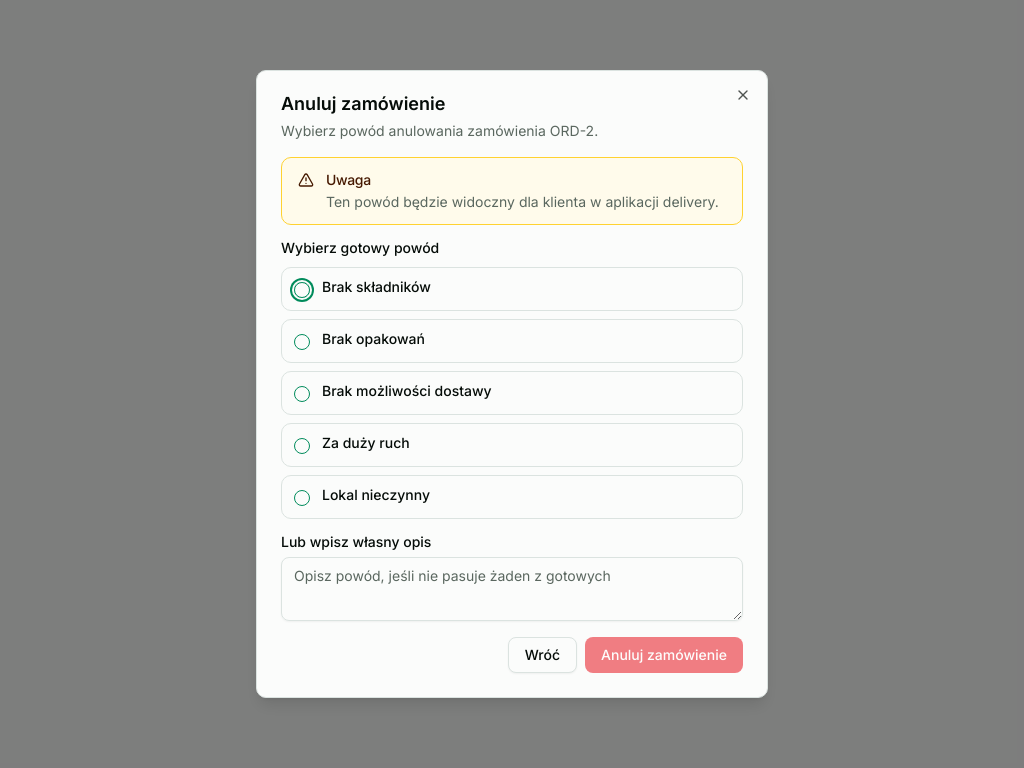
it: OrderCancelDialog › enables confirm when only custom reason is entered and shows customer warning
Step 1. Type "Kurier nie odbierze zamówienia" into the text box labelled "Lub wpisz własny opis" → coordinates (512, 589), box [281, 557, 743, 621]
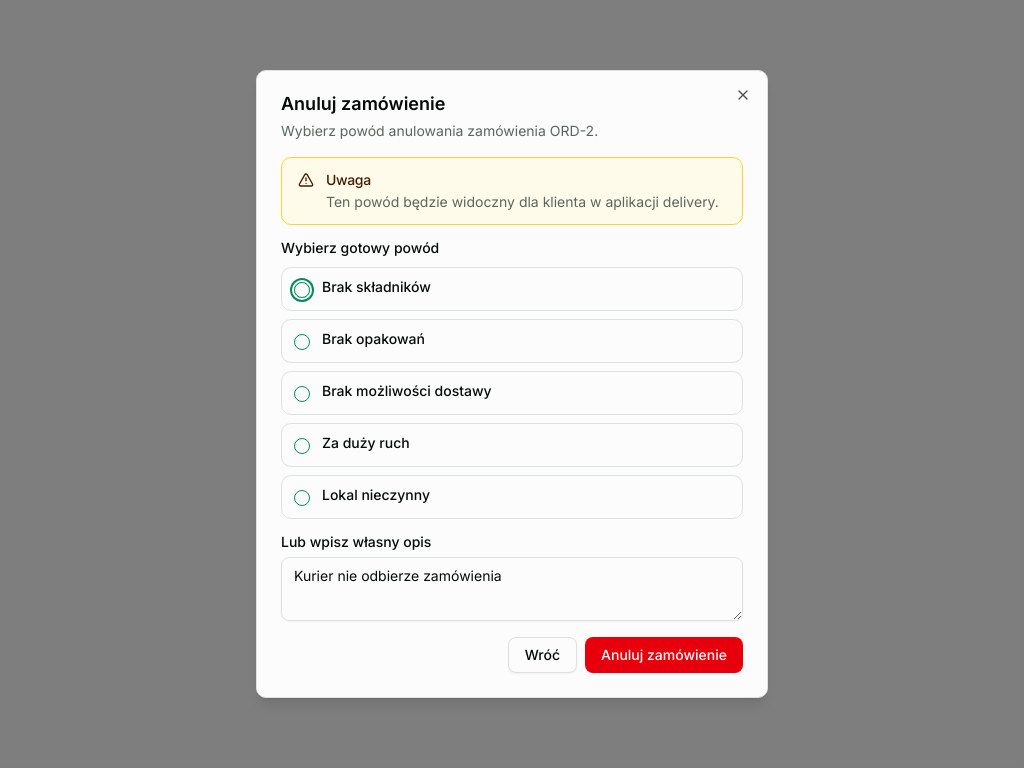
Expected: the text "Ten powód będzie widoczny dla klienta w aplikacji delivery." is shown, [326, 192, 726, 212]
Result: the button "Anuluj zamówienie" is enabled at [585, 637, 743, 673]
